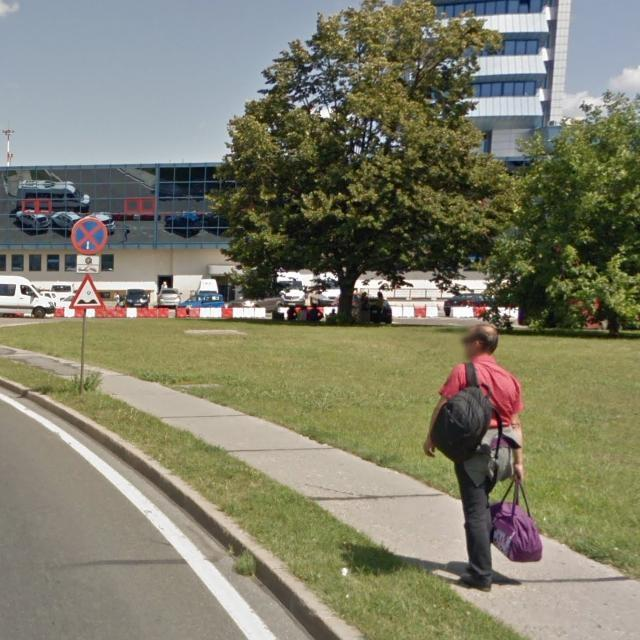forb_waiting: (71, 217, 109, 256)
